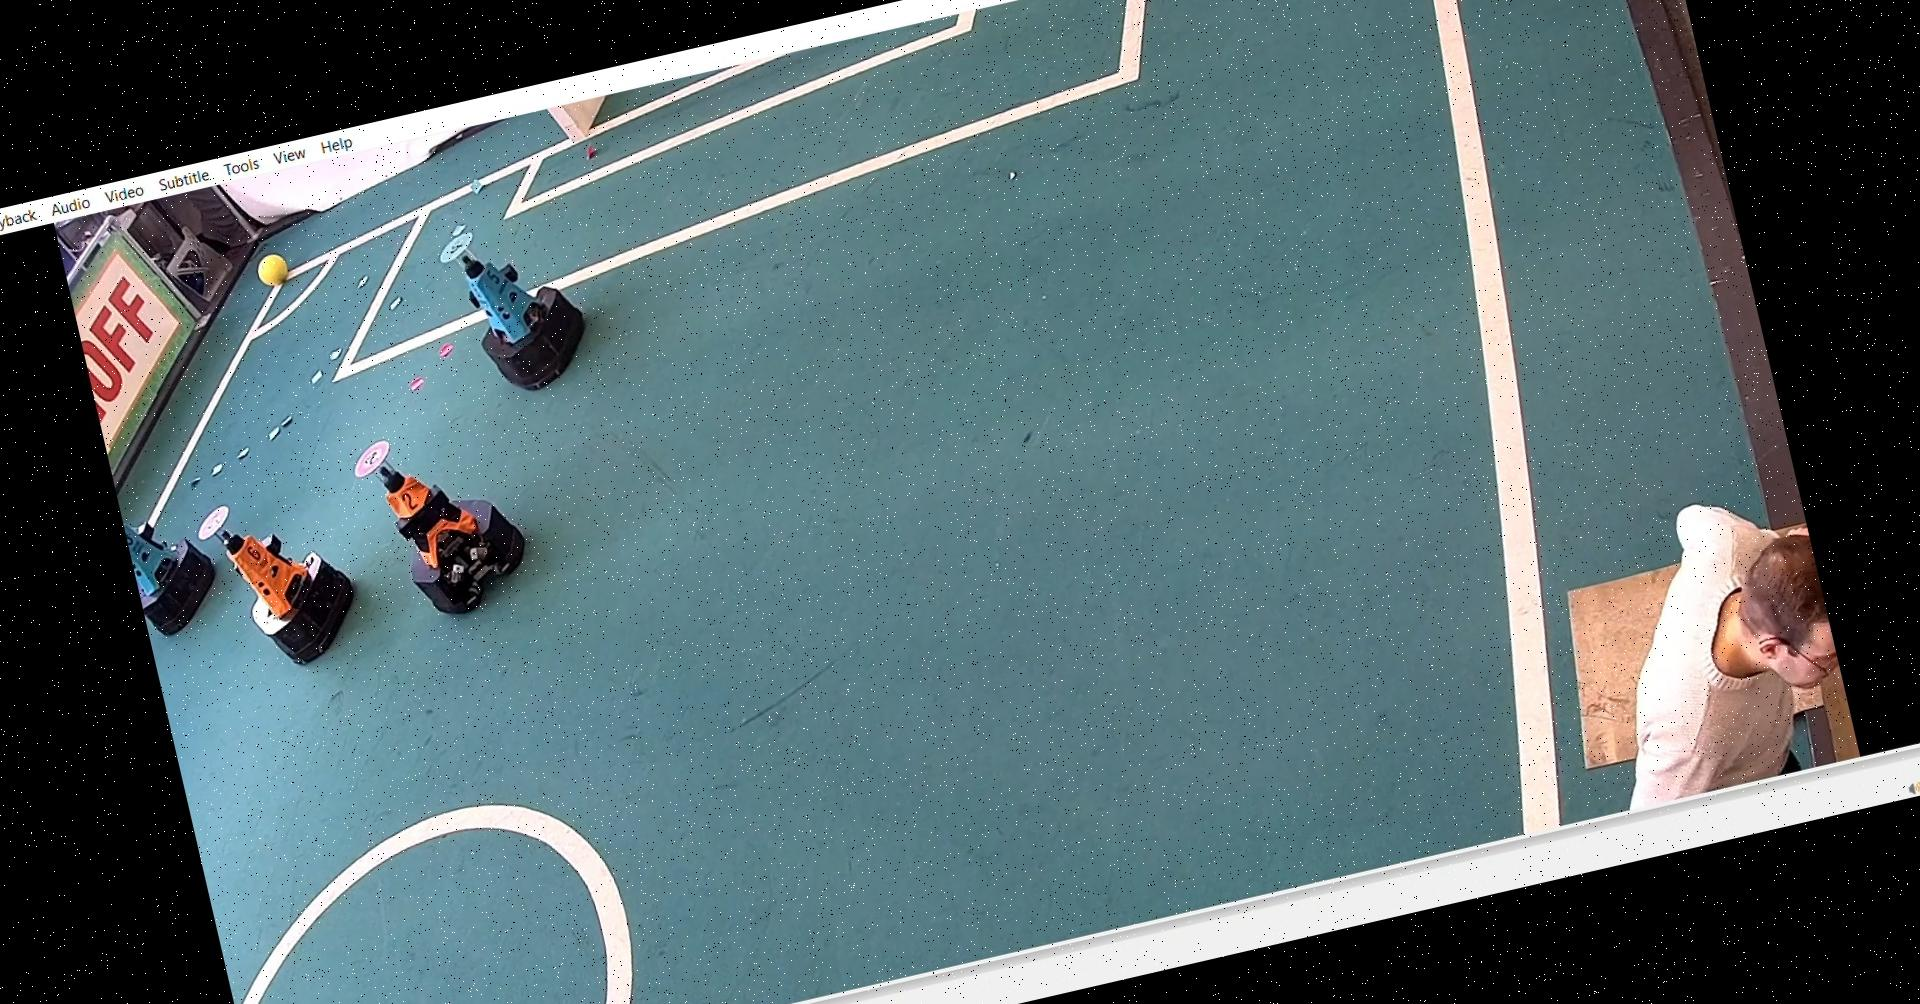Ball: (254, 249, 297, 288)
Team_Blue: (422, 199, 604, 407), (119, 486, 245, 641)
Team_Red: (344, 404, 543, 632), (193, 479, 362, 679)
